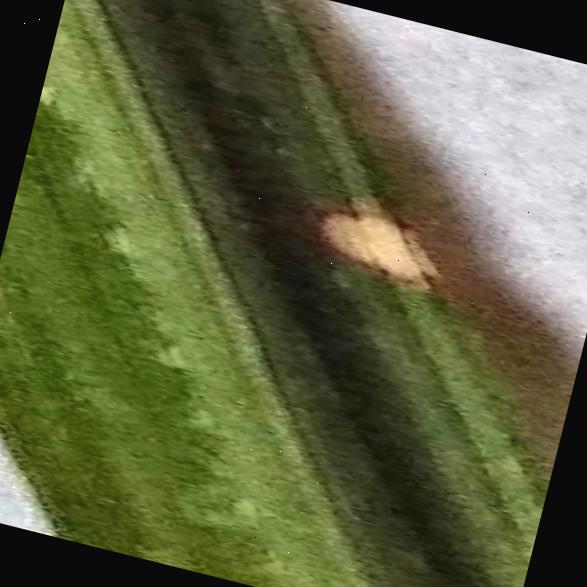Leaf_smut: (296, 181, 454, 306)
